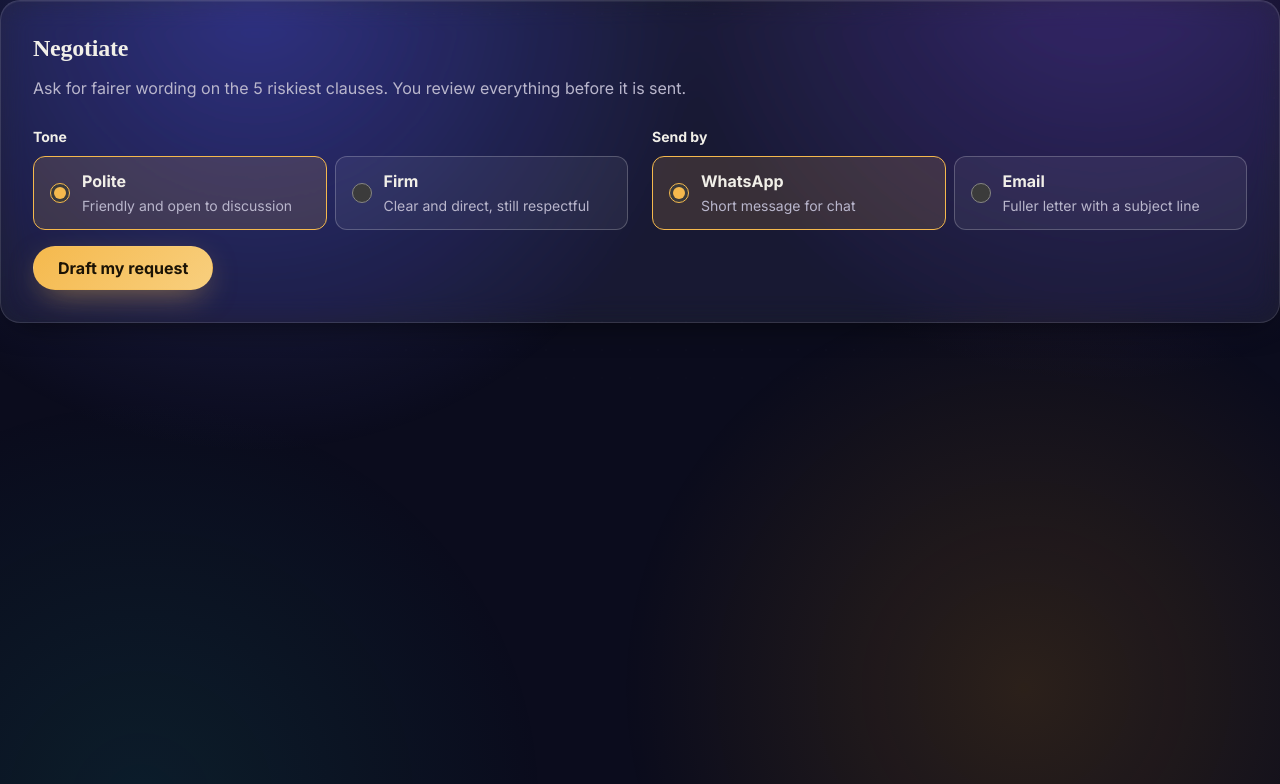
Test case: NegotiatePanel › is honest when the draft came from offline suggestions
What coordinates should you click on to do the following:
click the button "Draft my request"
I would click on:
 (123, 268)
Its box is [33,246,213,290].
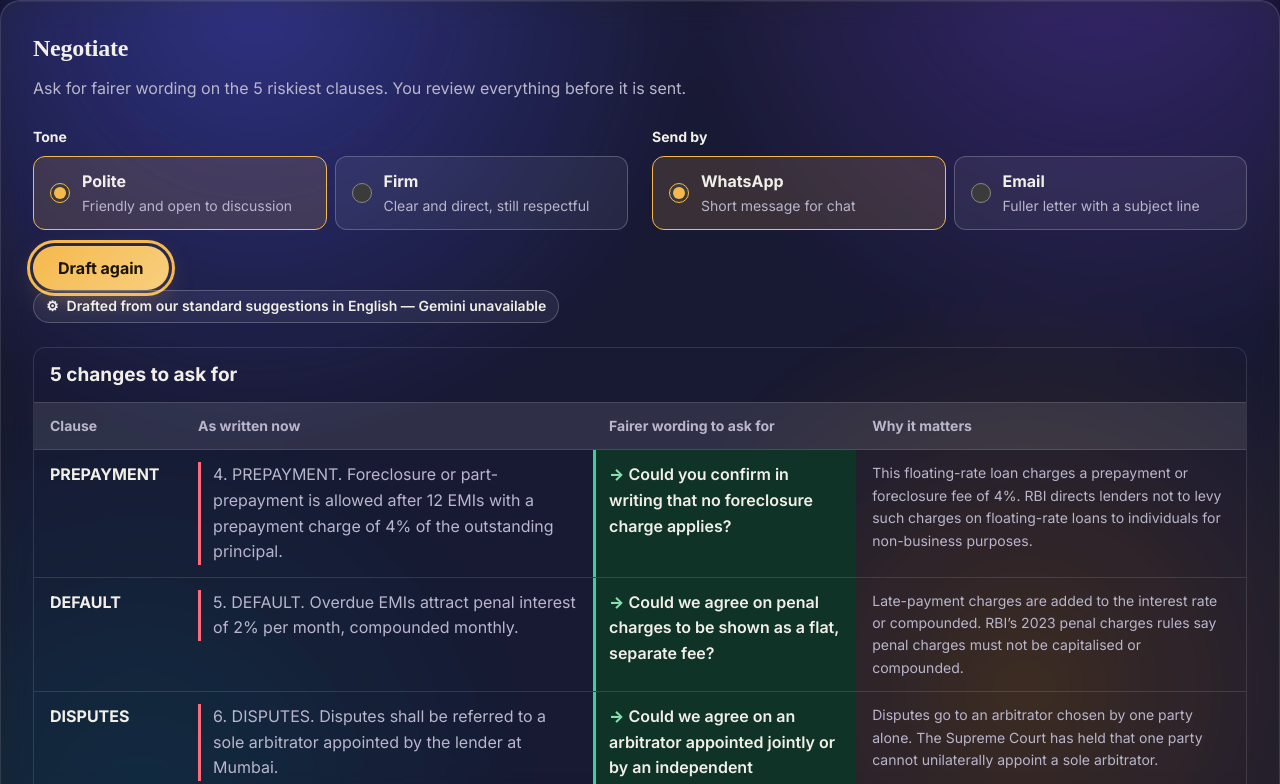
Check: the text "Drafted from our standard suggestions in English — Gemini unavailable" is shown, box [67,295,546,318]
